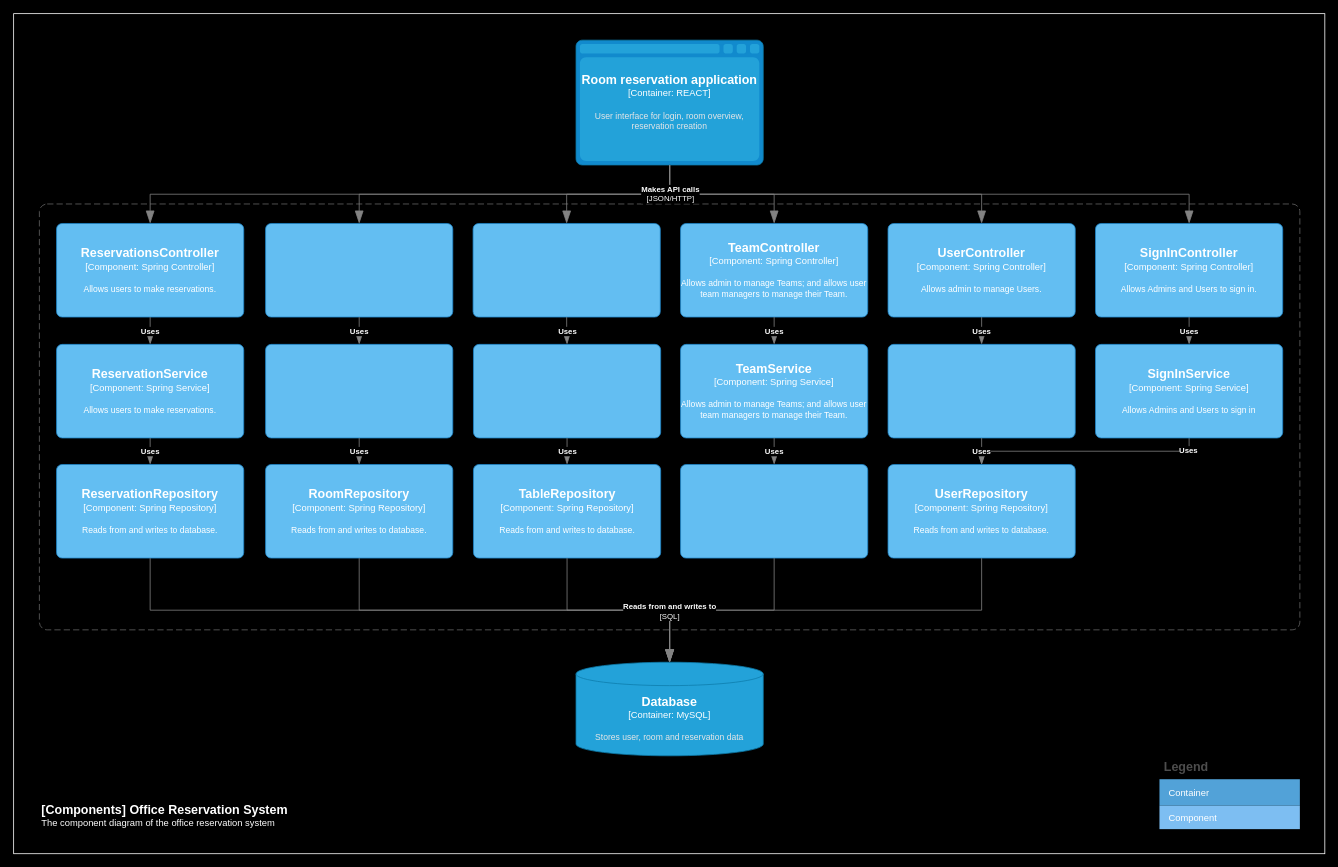
Some shapes in this 1338 by 867 pixel diagram are drawn without their labels. The box of each missing label's shape, as (x1, y1, x2, y2) in pixels:
REST API [Container]: (39, 203, 1300, 630)
RoomController [Component: Spring Controller] Allows admin to manage Rooms.: (265, 223, 453, 317)
RoomService [Component: Spring Service] Allows admin to manage Rooms.: (265, 344, 453, 438)
TableController [Component: Spring Controller] Allows admin to manage Tables.: (472, 223, 660, 317)
TableService [Component: Spring Service] Allows admin to manage Tables.: (473, 344, 661, 438)
TeamRepository [Component: Spring Repository] Reads from and writes to database.: (680, 464, 868, 558)
UserService [Component: Spring Service] Allows admin to manage Users.: (887, 344, 1075, 438)
